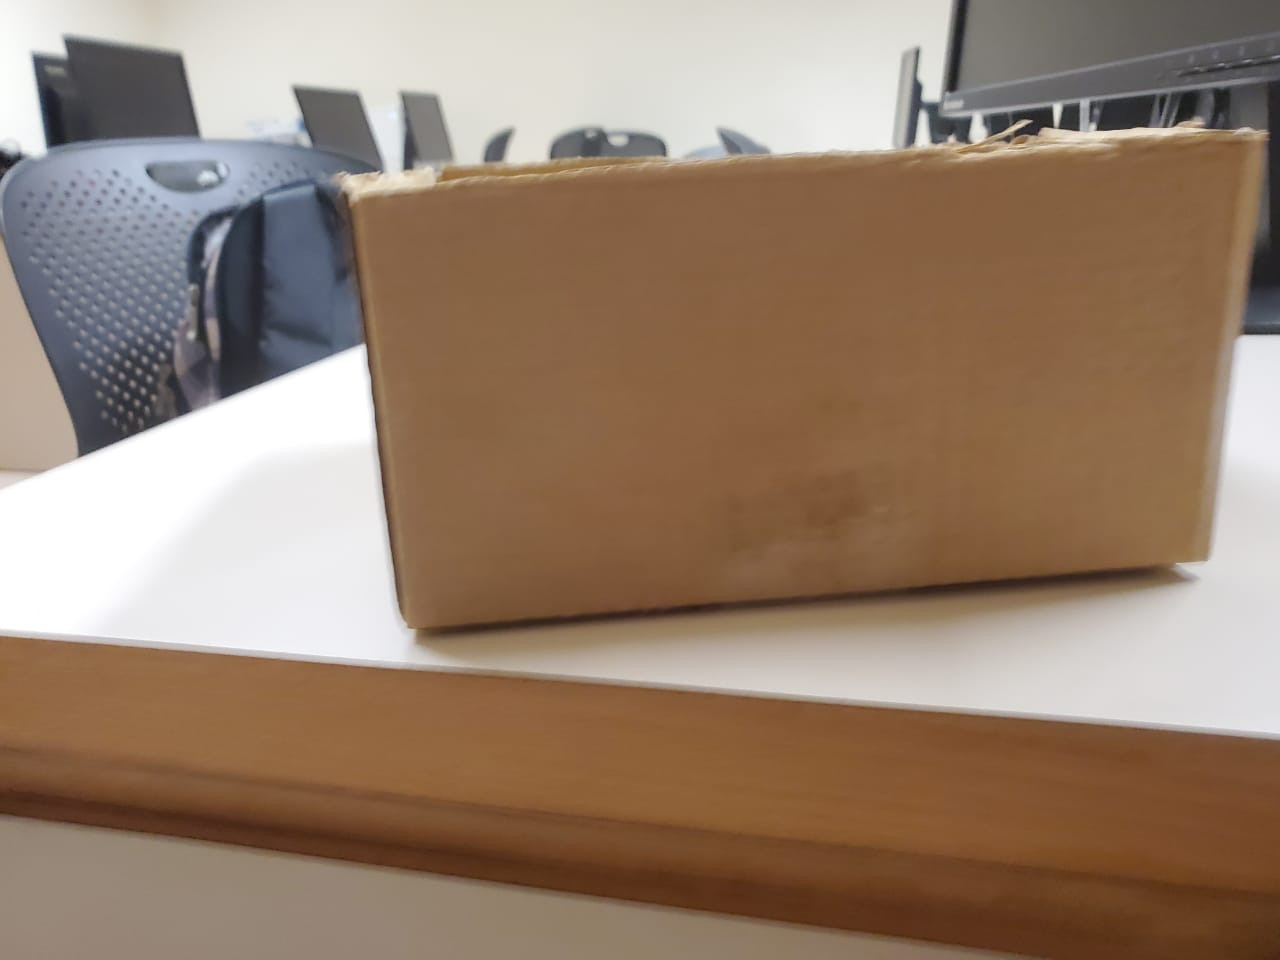CBox: (339, 133, 1267, 637)
